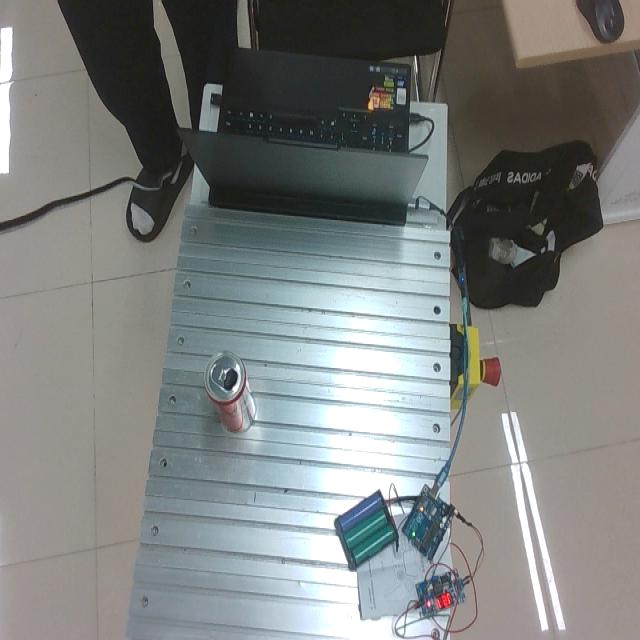coca: (204, 349, 257, 432)
